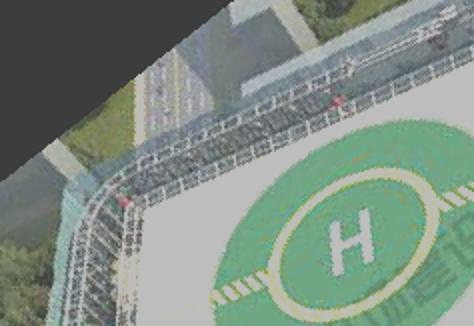Apron: (262, 152, 444, 326)
